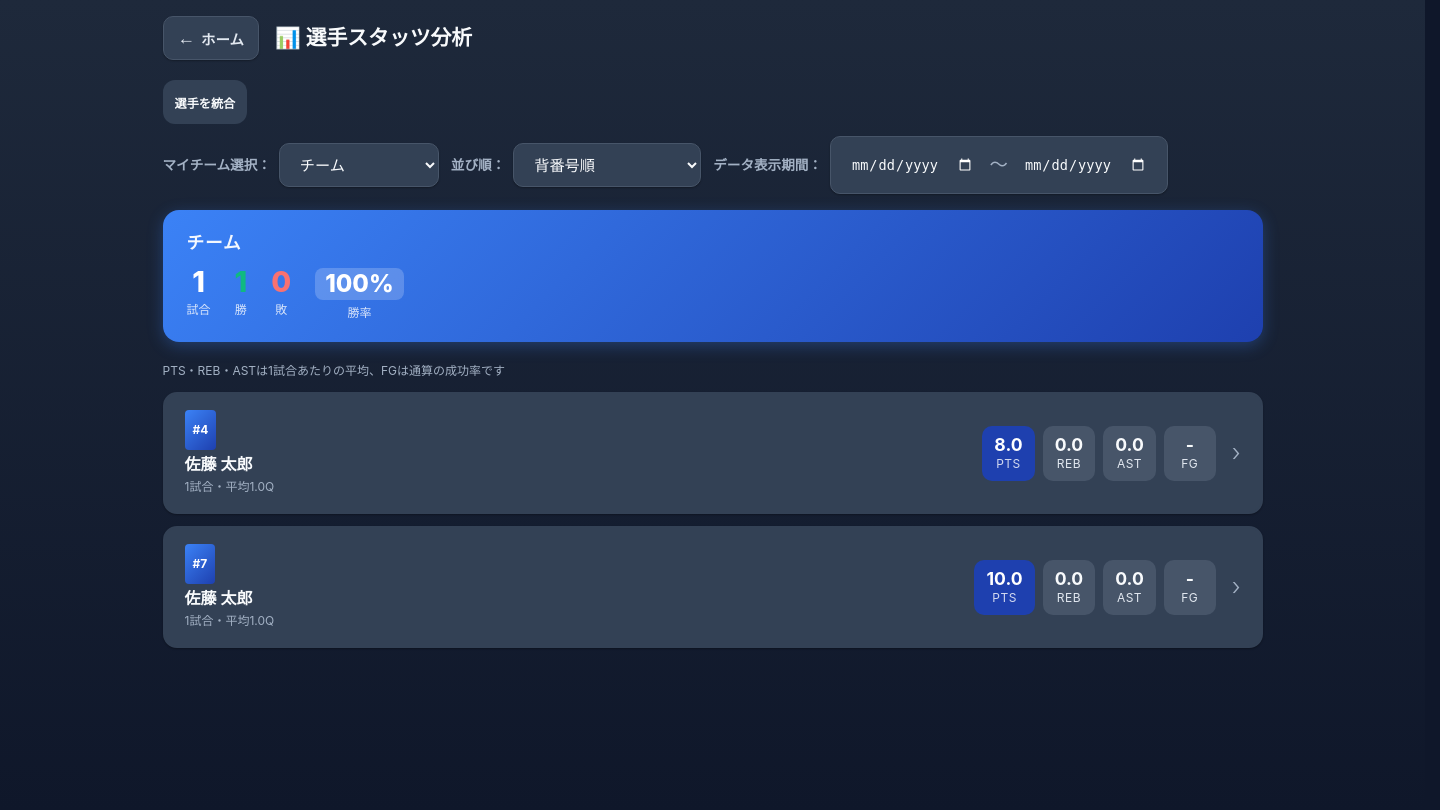
Test: 統合の流れ › 同じ試合に一緒に出ている2枚を選んでも統合へ進めない
This screenshot has width=1440, height=810.
Click the button "選手を統合" at (205, 102), box left=162, top=80, right=247, bottom=124
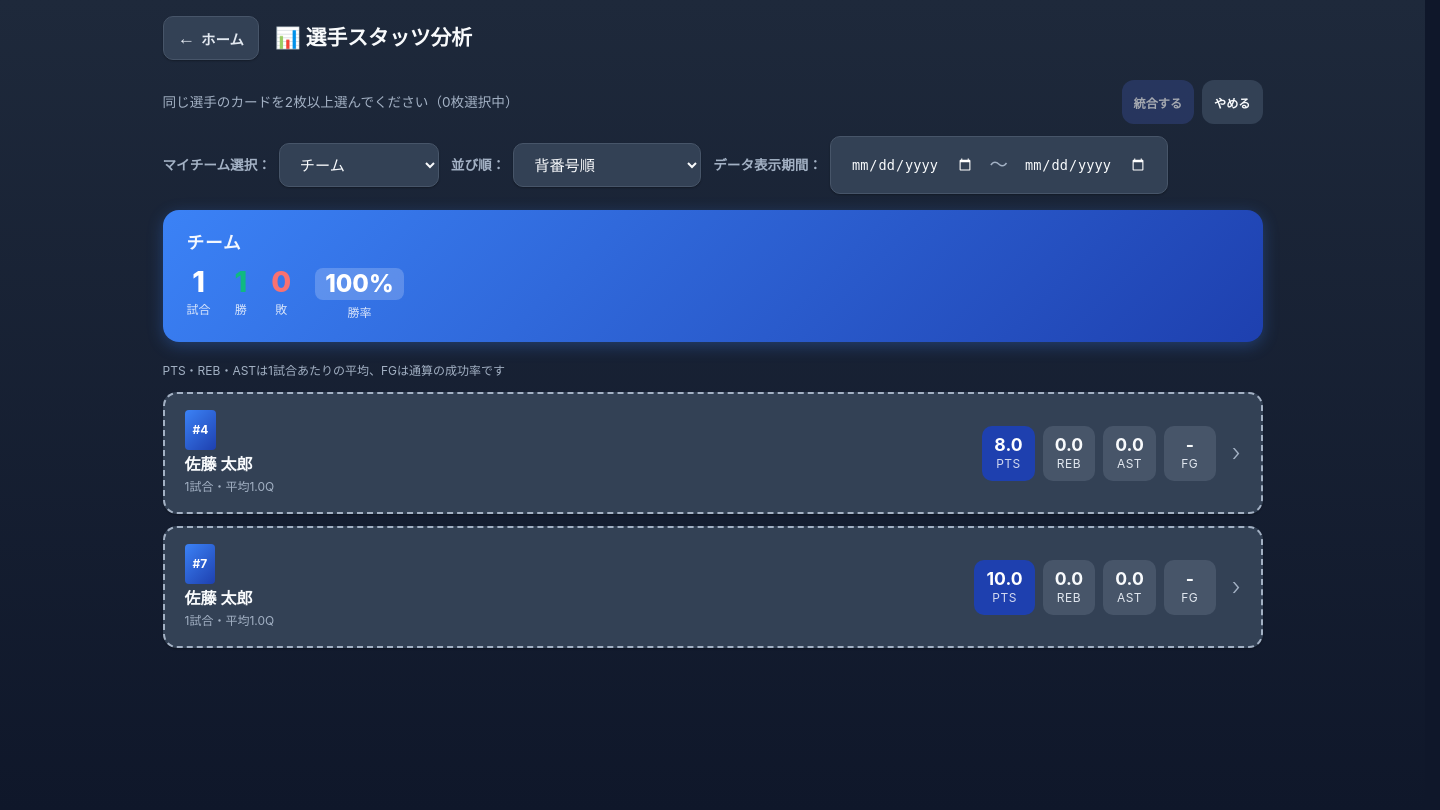
Click the button "#4 佐藤 太郎 1試合平均1.0Q 8.0 PTS 0.0 REB 0.0 AST - FG ›" at (200, 430), box left=162, top=392, right=1262, bottom=514
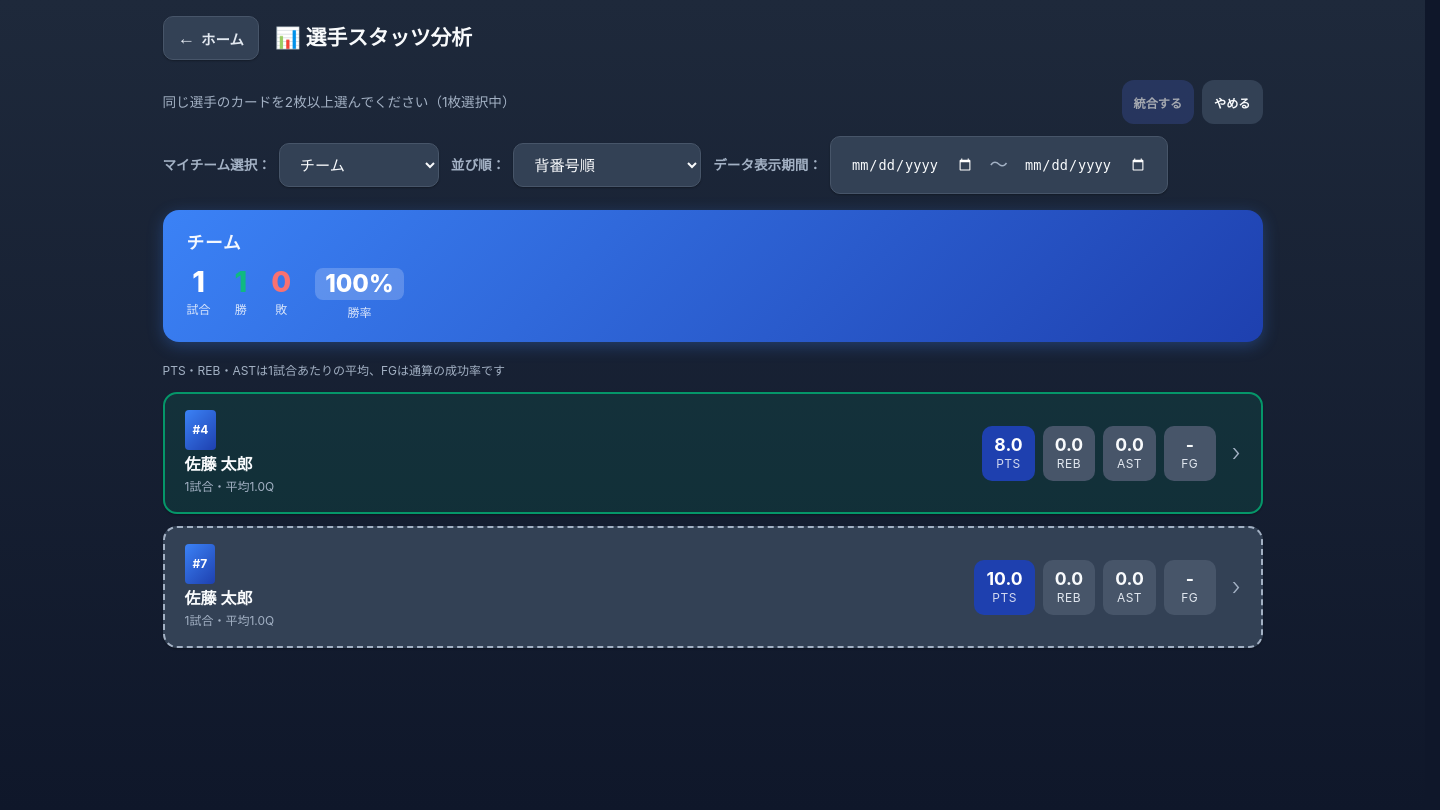
Click the button "#7 佐藤 太郎 1試合平均1.0Q 10.0 PTS 0.0 REB 0.0 AST - FG ›" at (200, 564), box left=162, top=526, right=1262, bottom=648
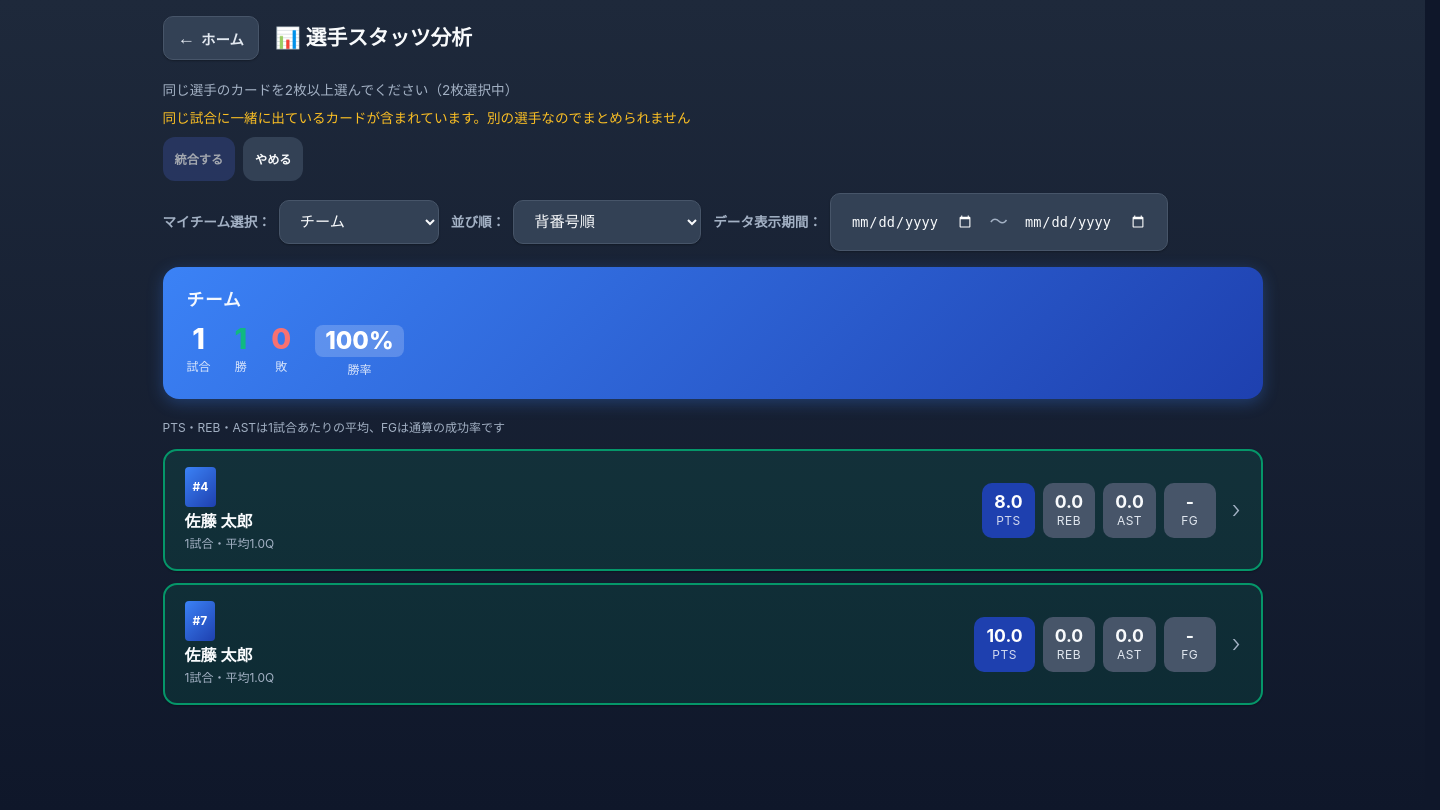
Now the button "統合する" is disabled, box left=162, top=137, right=235, bottom=181
Now the text "同じ試合に一緒に出ているカードが含まれています。別の選手なのでまとめられません" is shown, box left=162, top=110, right=690, bottom=126
